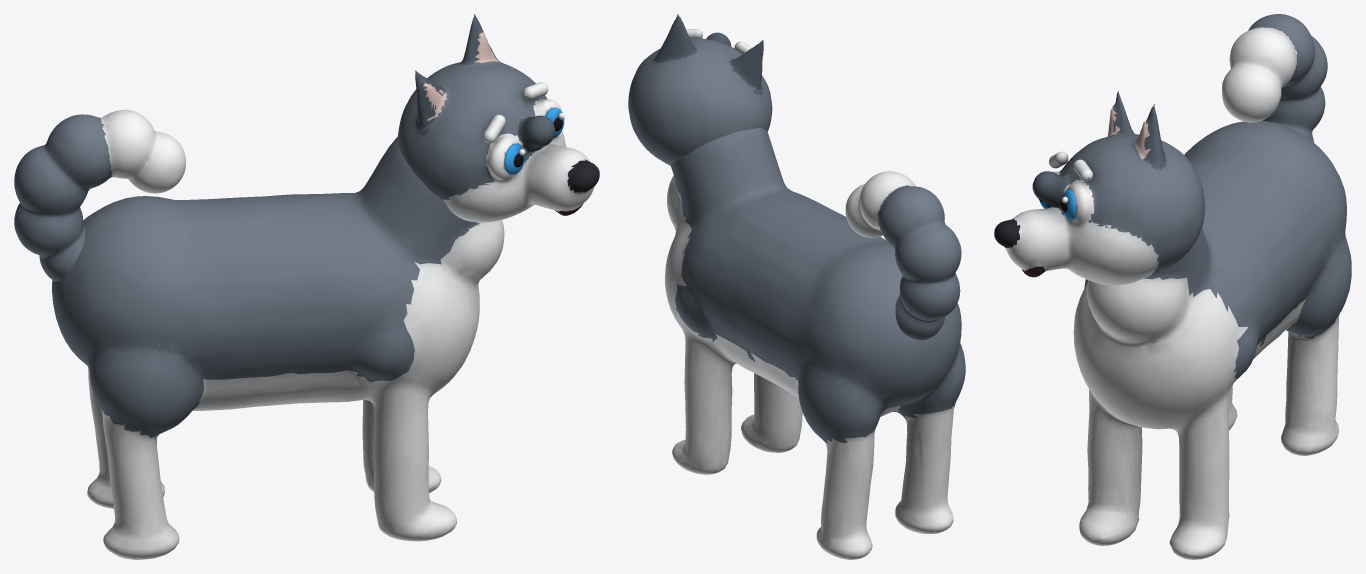
Rendered from ar-det-langt-harifran.glb.
3 views of the same model, side by side, from view 1: azimuth 30°, elevation 25°; view 2: azimuth 150°, elevation 25°; view 3: azimuth 270°, elevation 25° (orthographic). The views are drawn at different scales.
Visible parts, largest first — view 1: husky__r0, cabeca__r0, rabo__r0; view 2: husky__r0, cabeca__r0, rabo__r0; view 3: husky__r0, cabeca__r0, rabo__r0.
Part boxes in pixels (x1,y1,x2,y2): husky__r0: (52, 136, 504, 559); cabeca__r0: (398, 14, 599, 222); rabo__r0: (14, 109, 185, 281); husky__r0: (665, 128, 965, 559); cabeca__r0: (628, 14, 772, 165); rabo__r0: (845, 171, 961, 340); husky__r0: (1073, 121, 1351, 559); cabeca__r0: (994, 91, 1204, 285); rabo__r0: (1222, 14, 1327, 142).
Bounding box in the file's own units: 1.65 × 1.71 × 1.17.
